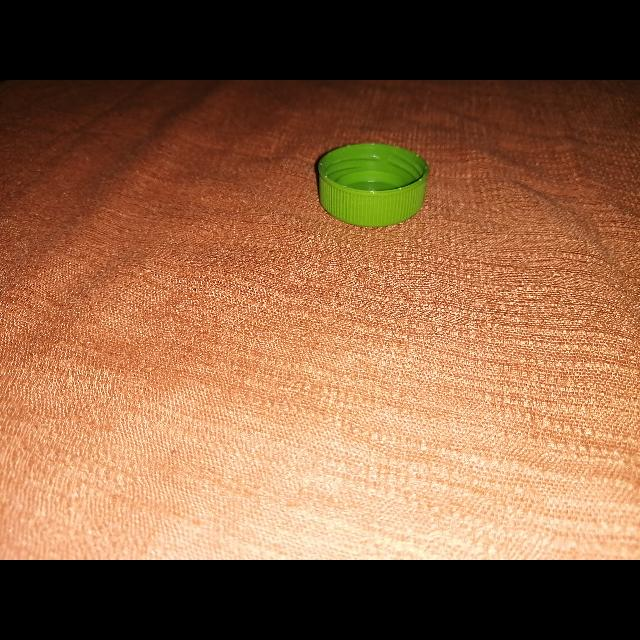plastic_bottle_cap: (316, 140, 428, 228)
